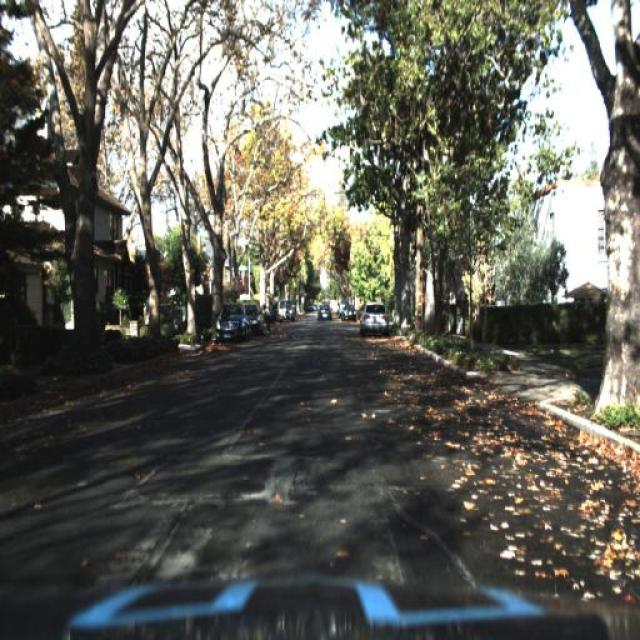car: (211, 301, 248, 350), (354, 296, 392, 339), (247, 298, 266, 338), (248, 302, 266, 342), (274, 295, 298, 323), (313, 302, 335, 322), (339, 303, 358, 326)
trafficLight: (262, 300, 272, 340)
